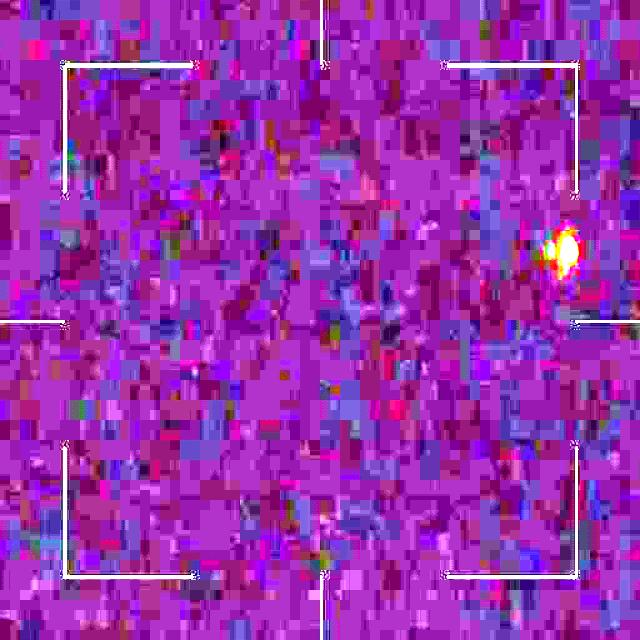bird: (545, 230, 581, 280)
